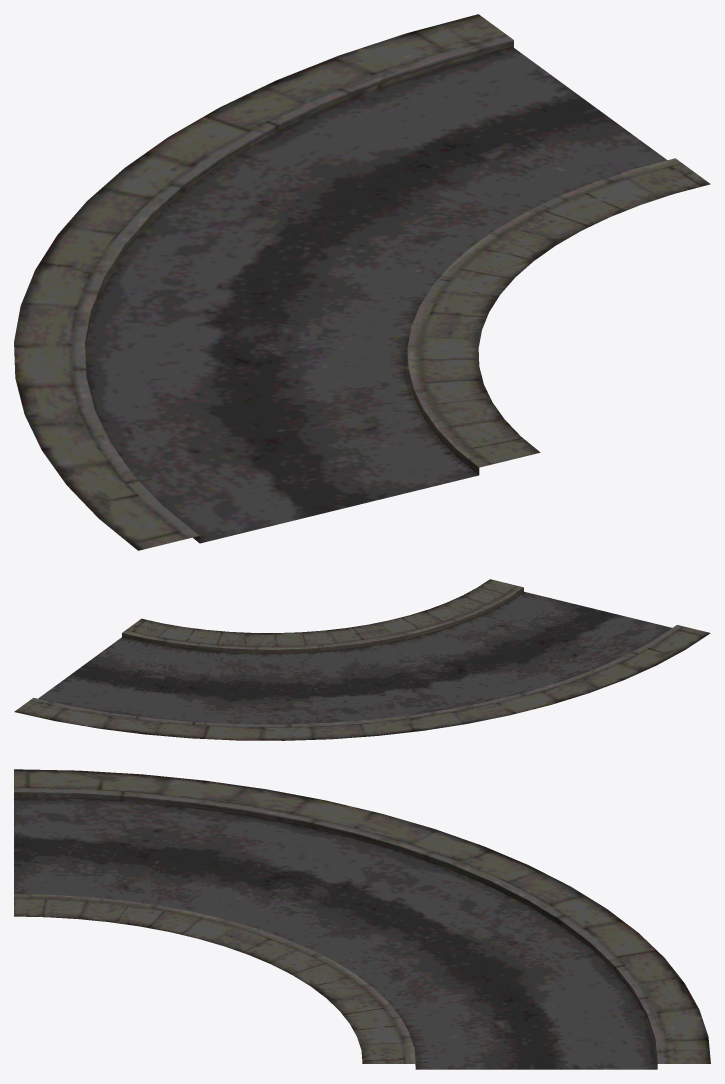
The model's file is Road3.fbx.
The picture shows the model from 3 angles, top to bottom: view 1: azimuth 30°, elevation 25°; view 2: azimuth 150°, elevation 25°; view 3: azimuth 270°, elevation 25°; orthographic projection. The views are drawn at different scales.
Visible parts, largest first — view 1: Road_turn_2; view 2: Road_turn_2; view 3: Road_turn_2.
Part boxes in pixels (<box>): Road_turn_2: <box>14,14,710,550</box>; Road_turn_2: <box>14,579,710,740</box>; Road_turn_2: <box>14,769,710,1069</box>.
Bounding box in the file's own units: 20 × 0.1836 × 20.
